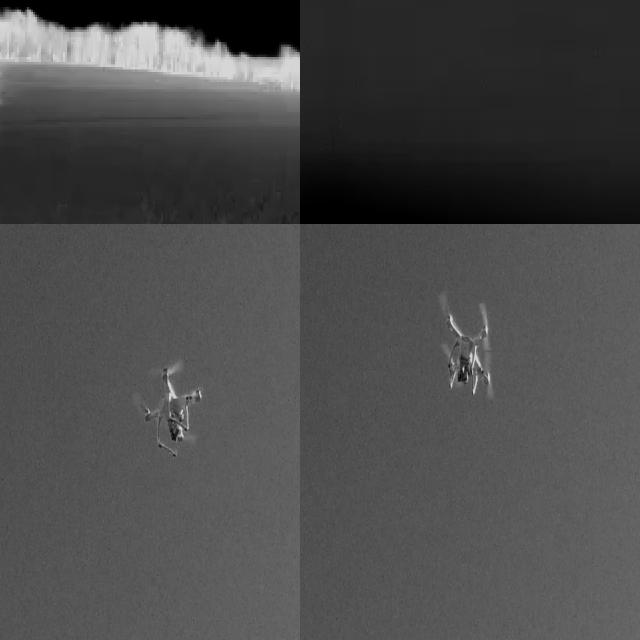drone: (439, 293, 499, 405), (136, 355, 201, 458)
